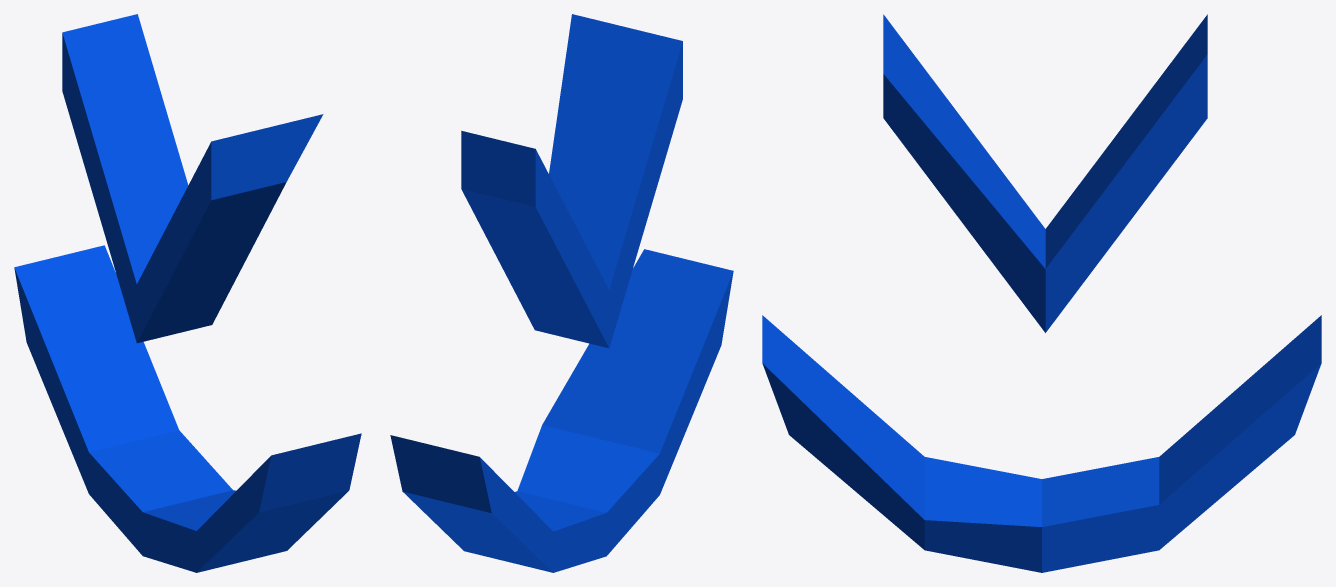
Rendered from SomosSmiley.fbx.
3 renders of one model, left to right at view 1: azimuth 30°, elevation 25°; view 2: azimuth 150°, elevation 25°; view 3: azimuth 270°, elevation 25°, orthographic. The views are drawn at different scales.
Visible parts, largest first — view 1: SomosSmiley; view 2: SomosSmiley; view 3: SomosSmiley.
Part boxes in pixels (left/top/right/bottom): SomosSmiley: left=14, top=14, right=361, bottom=572; SomosSmiley: left=390, top=14, right=733, bottom=572; SomosSmiley: left=762, top=14, right=1321, bottom=572.
Size of the model in its own units: 65.4 by 237 by 236.
